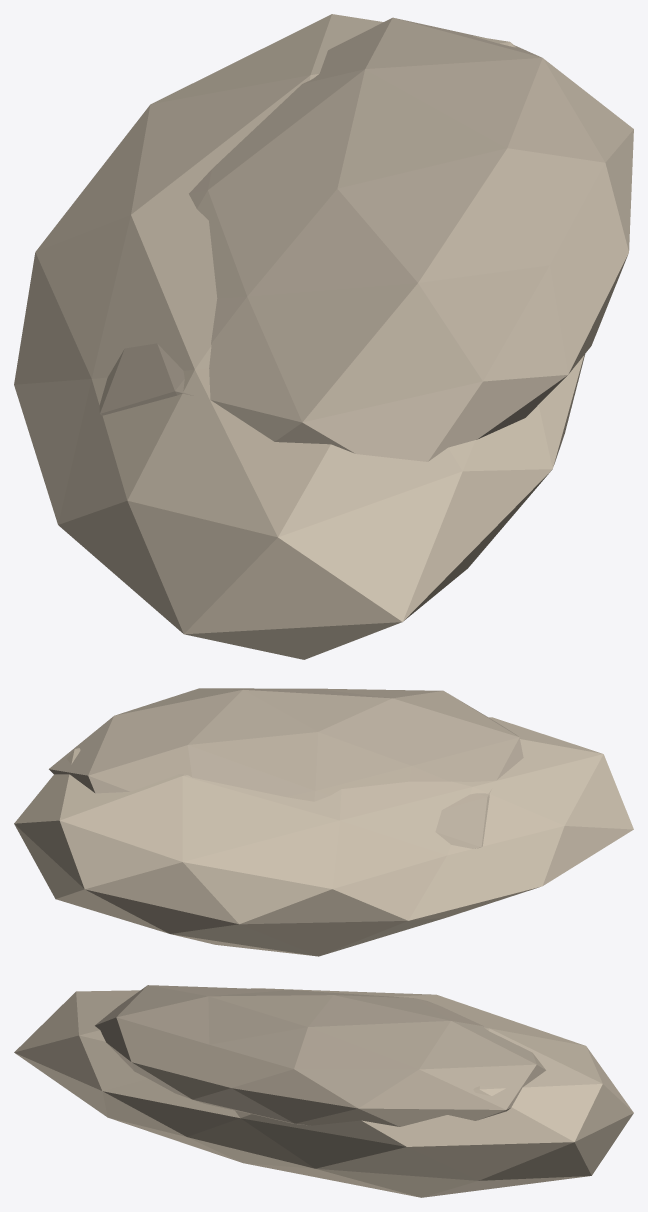
Rendered from campo_rock_slate_6.glb.
3 views of the same model, one above another, from view 1: azimuth 30°, elevation 25°; view 2: azimuth 150°, elevation 25°; view 3: azimuth 270°, elevation 25° (orthographic). The views are drawn at different scales.
Visible parts, largest first — view 1: campo_rock_slate_6.glb; view 2: campo_rock_slate_6.glb; view 3: campo_rock_slate_6.glb.
Boxes of the visible parts, bbox=[...] form: campo_rock_slate_6.glb: bbox=[14, 14, 633, 659]; campo_rock_slate_6.glb: bbox=[14, 688, 633, 956]; campo_rock_slate_6.glb: bbox=[14, 985, 633, 1197].
Size of the model in its own units: 1.8 by 0.7876 by 2.31.
